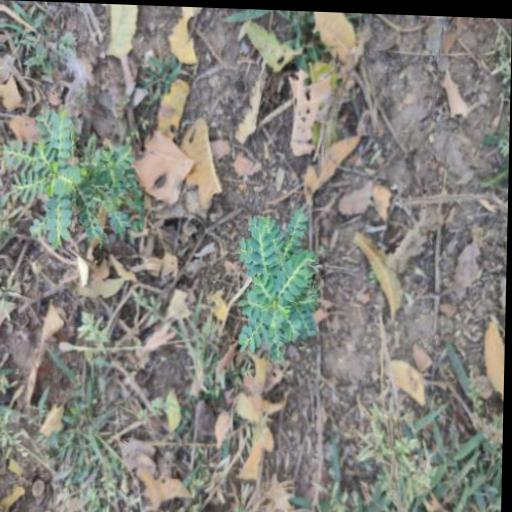weed: (1, 97, 166, 263), (223, 199, 335, 373)
